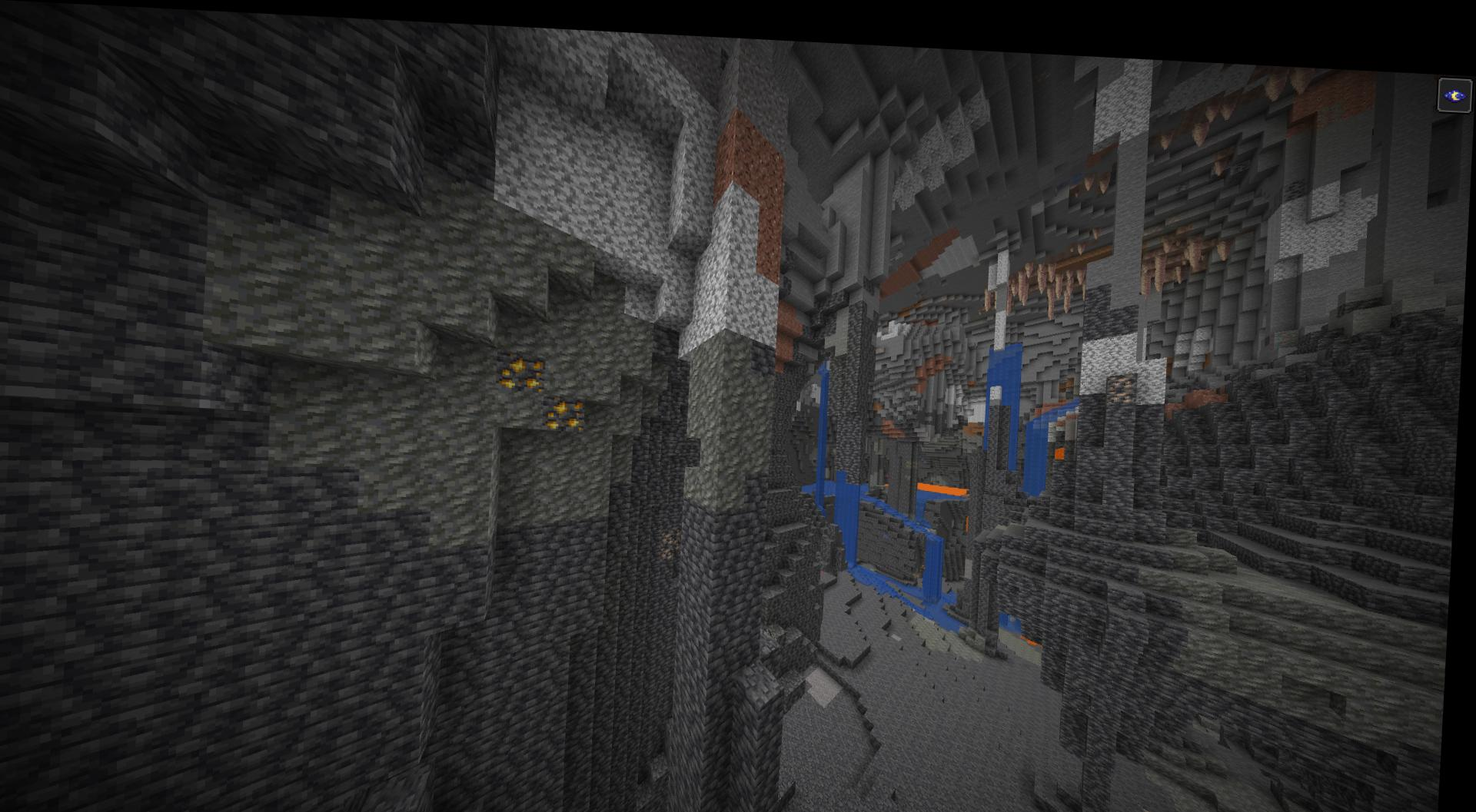gold ore: (499, 345, 548, 386), (550, 389, 588, 425)
iron ore: (1109, 363, 1142, 392), (665, 520, 688, 553)
